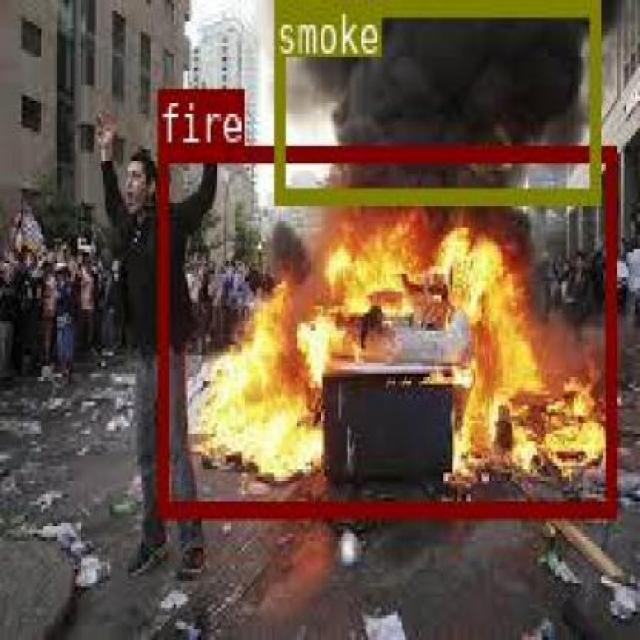Fire: (156, 143, 613, 514)
Smoke: (272, 1, 597, 202)
